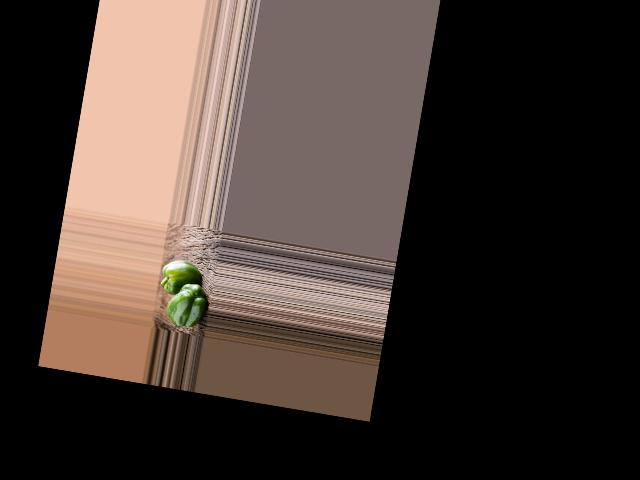bell_pepper: (163, 278, 208, 329)
